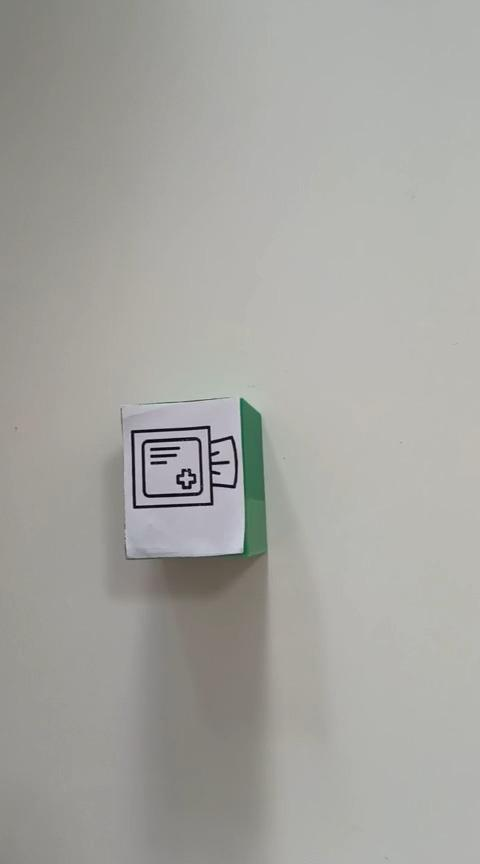Gauze: (119, 395, 267, 560)
